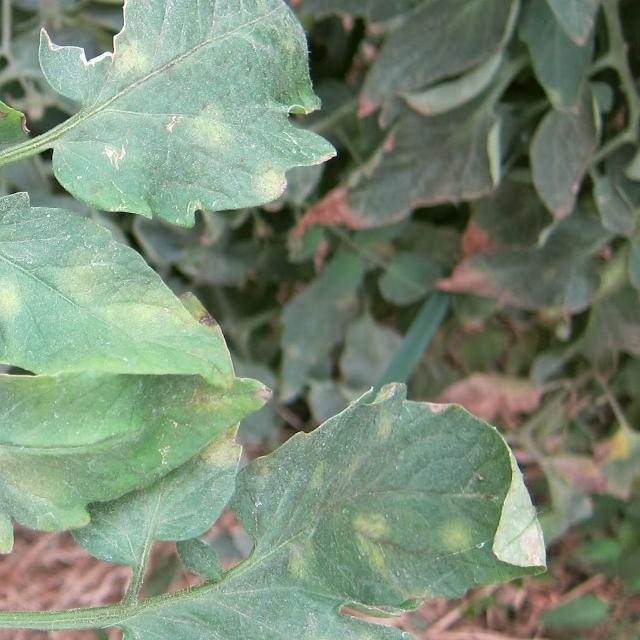Tomato mold leaf: (227, 362, 583, 614), (0, 191, 254, 476), (25, 0, 341, 229), (0, 385, 286, 588), (66, 579, 518, 640)
